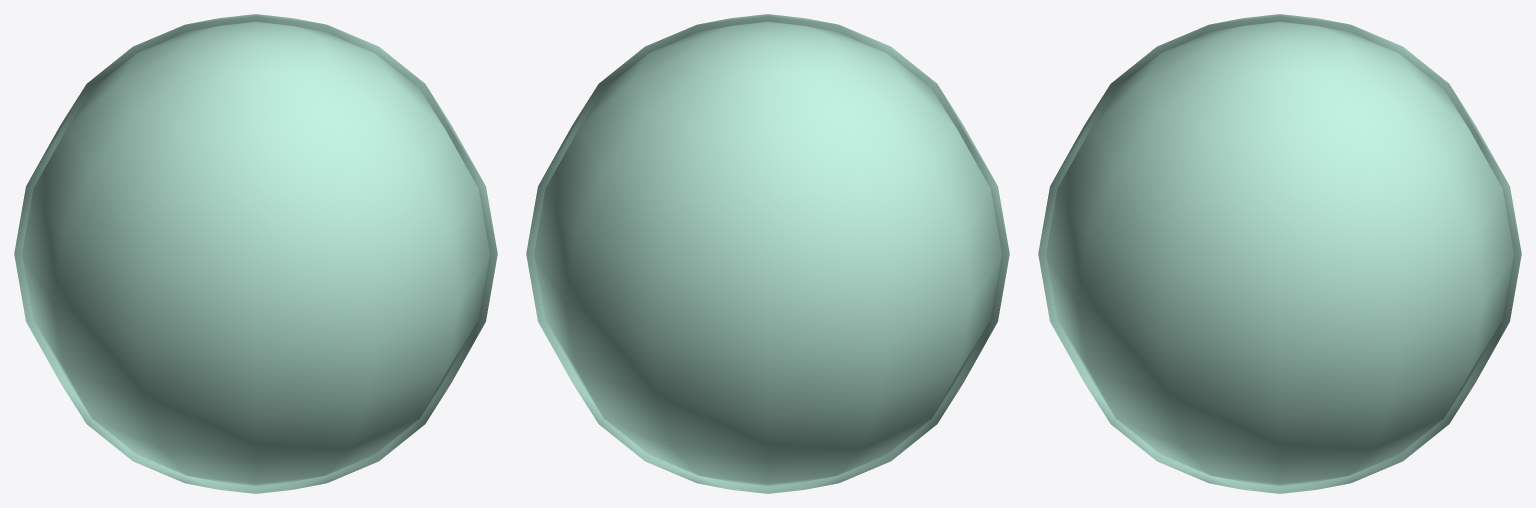
File: InsectYutaroWisp.glb
The picture shows the model from 3 angles, left to right: view 1: azimuth 30°, elevation 25°; view 2: azimuth 150°, elevation 25°; view 3: azimuth 270°, elevation 25°; orthographic projection.
Visible parts, largest first — view 1: Inside__mYutaro, Outside__mYutaroOut; view 2: Inside__mYutaro, Outside__mYutaroOut; view 3: Inside__mYutaro, Outside__mYutaroOut.
Boxes of the visible parts, x1=… form: Inside__mYutaro: x1=22, y1=21, x2=489, y2=486; Outside__mYutaroOut: x1=14, y1=14, x2=497, y2=493; Inside__mYutaro: x1=534, y1=21, x2=1001, y2=486; Outside__mYutaroOut: x1=526, y1=14, x2=1009, y2=493; Inside__mYutaro: x1=1046, y1=21, x2=1513, y2=486; Outside__mYutaroOut: x1=1038, y1=14, x2=1521, y2=493.
Bounding box in the file's own units: 1.76 × 1.76 × 1.76.
Materials: 2 (2 with a texture image).
